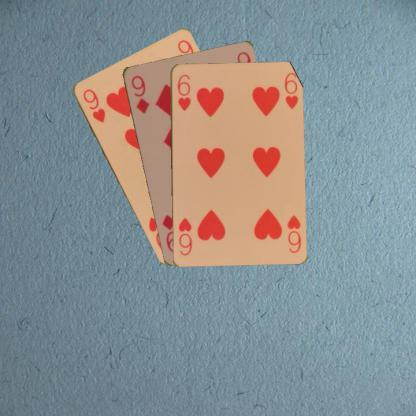6h: (284, 212, 302, 254), (174, 72, 192, 112)
9d: (128, 72, 150, 115)
9h: (80, 86, 106, 124)
